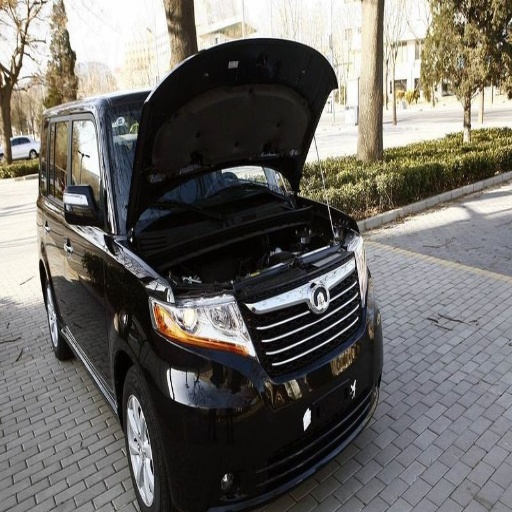back_glass: (169, 103, 289, 198)
front_right_door: (68, 226, 106, 365)
front_right_light: (145, 278, 252, 356)
